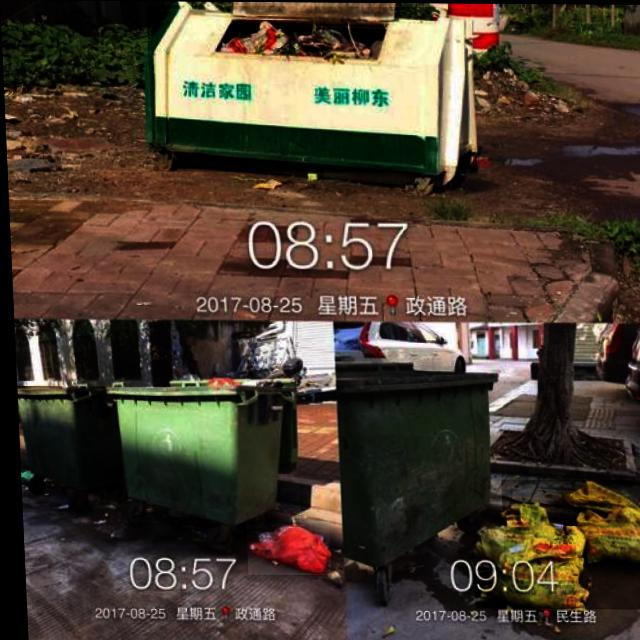garbage: (466, 478, 640, 609), (241, 521, 326, 575)
garbage_bin: (331, 358, 500, 567), (100, 377, 296, 524), (13, 386, 119, 489)
overflow: (146, 5, 476, 173)
